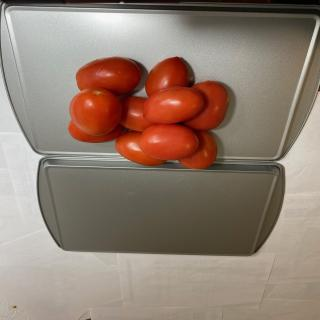Chilli: (68, 55, 230, 170)
Tomato: (76, 56, 141, 96), (69, 87, 122, 136), (182, 80, 230, 131), (143, 86, 204, 124), (139, 124, 199, 160), (145, 56, 190, 97), (115, 131, 167, 166), (177, 130, 218, 170), (68, 119, 124, 143), (119, 96, 155, 132)
